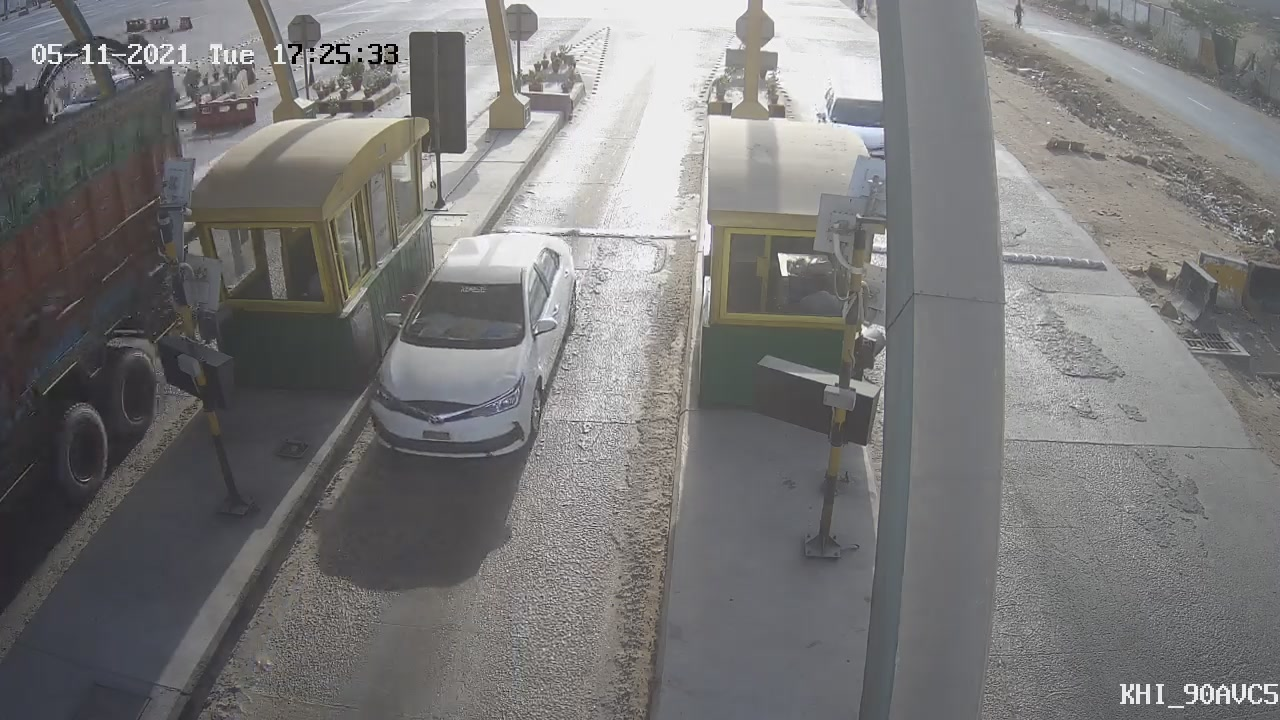F1: (343, 212, 601, 491)
